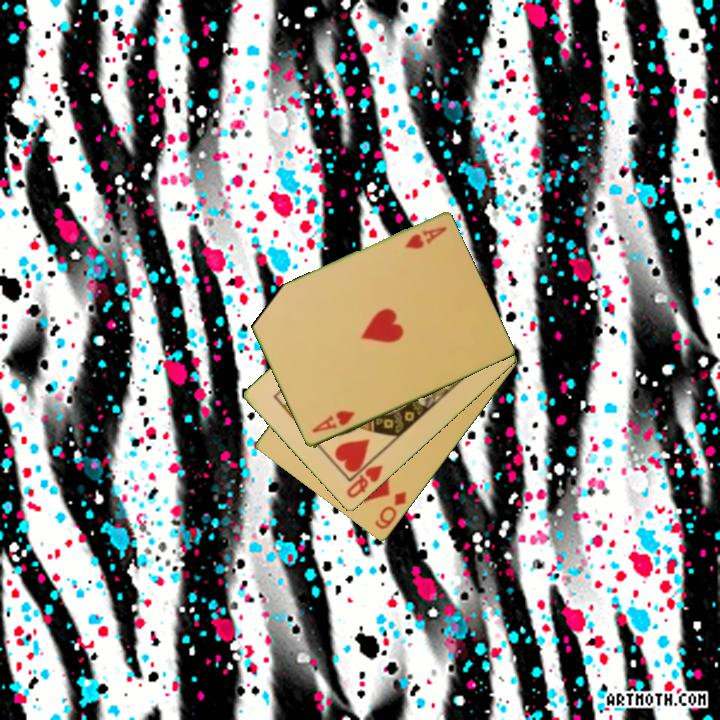6d: (372, 488, 409, 533)
Ah: (308, 407, 357, 436), (401, 223, 450, 252)
Qh: (343, 462, 386, 501)
